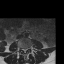CCS_stenosis: (24, 47, 25, 55)
LFS_stenosis: (27, 45, 29, 50)
LLS_stenosis: (25, 46, 27, 52)
RFS_stenosis: (20, 46, 22, 51)
RLS_stenosis: (22, 46, 24, 52)
